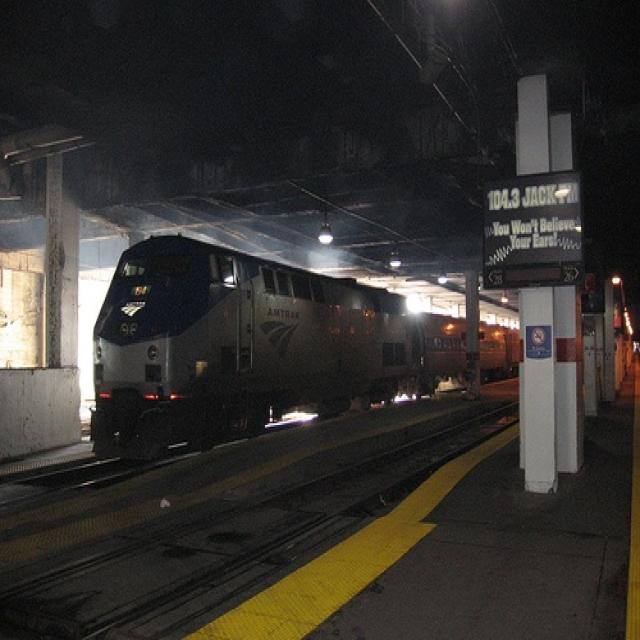train: (92, 235, 526, 458)
